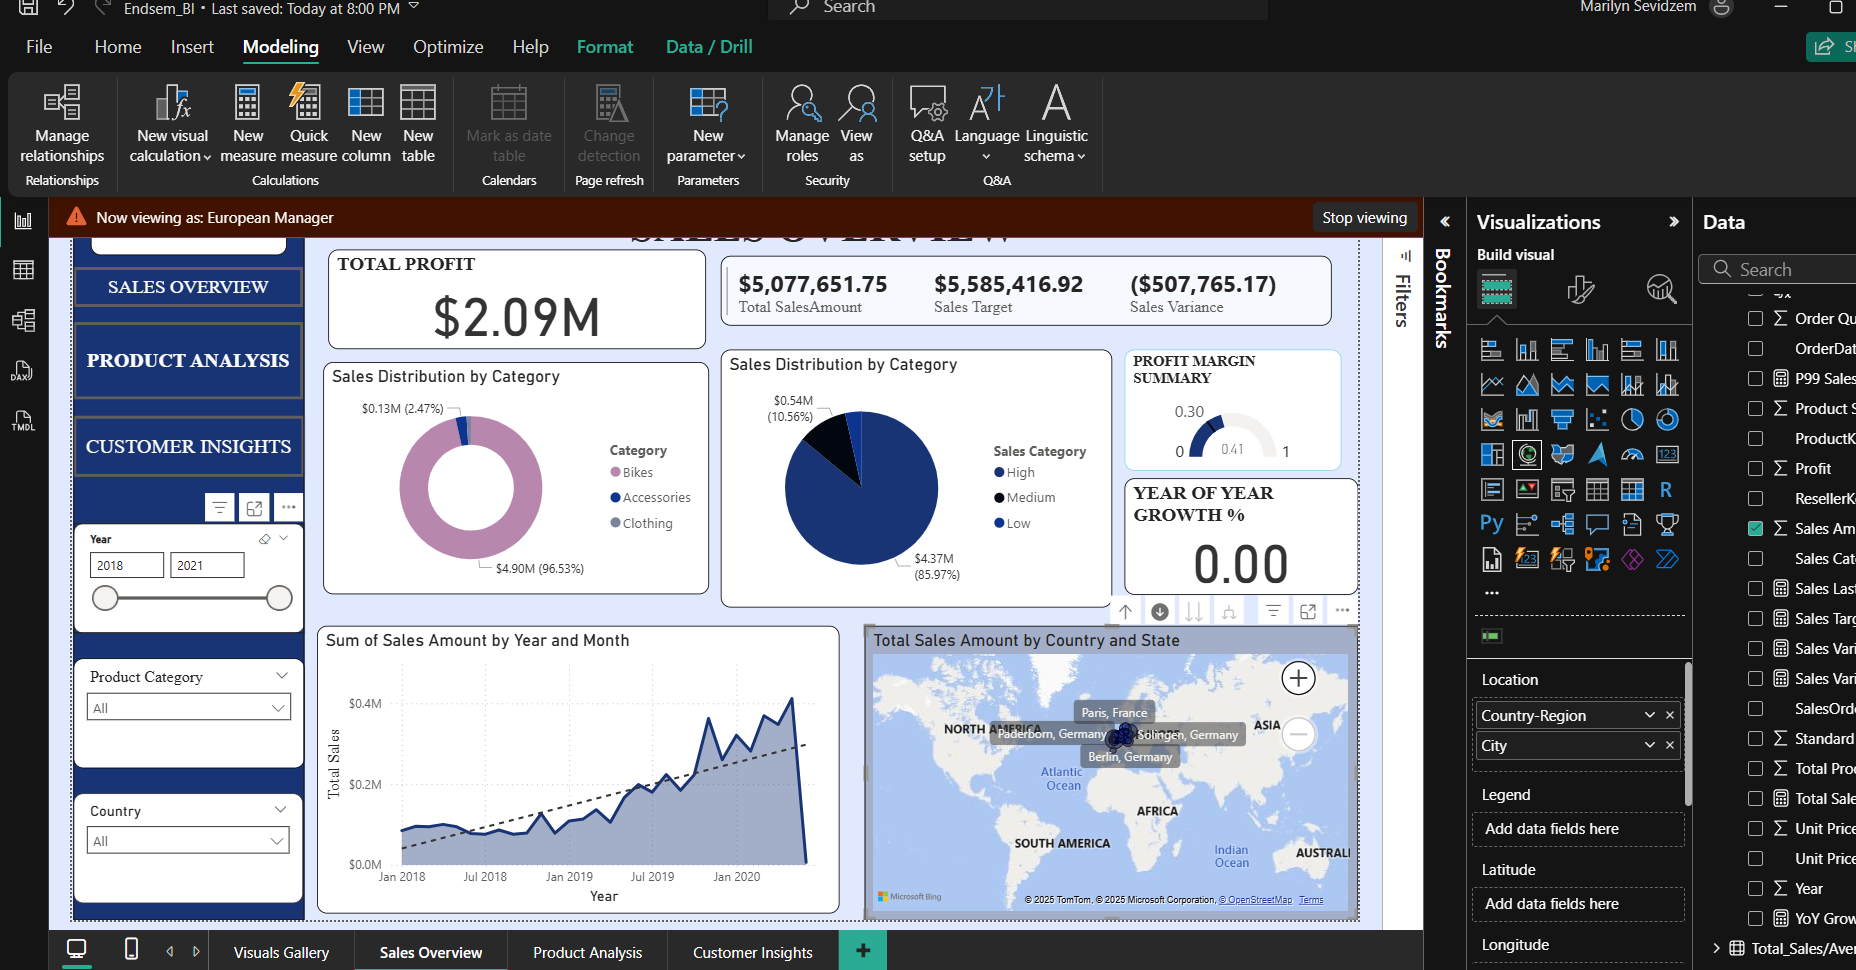

The page's visual inventory and layout, read from the dashboard file:
{"tool":"powerbi","page":{"name":"Sales Overview","canvas":[1280,720],"ordinal":1},"visuals":[{"type":"slicer","fields":{"Values":["Date.Date.Variation.Date Hierarchy.Year"]},"box":[0.9,324.8,230.5,109.8],"z":0,"group":"g2"},{"type":"areaChart","fields":{"Category":["Date.Date.Variation.Date Hierarchy.Year","Date.Date.Variation.Date Hierarchy.Month"],"Y":["Sum(Sales.Sales Amount)"]},"box":[243.8,426.7,520,286.1],"z":0},{"type":"map","title":"Total Sales Amount by Country and State","fields":{"Category":["Geography.Country-Region","Geography.City"],"Size":["Sum(Sales.Sales Amount)"]},"box":[788.7,426.7,491.4,293.6],"z":1000},{"type":"slicer","title":"Catrg","fields":{"Values":["Product.Category"]},"box":[0.9,459.3,230.5,109.8],"z":1000,"group":"g2"},{"type":"multiRowCard","fields":{"Values":["Sales.Total SalesAmount","Sales.Sales Target","Sales.Sales Variance"]},"box":[645.1,57.9,607.7,69.8],"z":2000},{"type":"slicer","fields":{"Values":["Geography.Country-Region"]},"box":[0.9,593.8,229.2,109.8],"z":2000,"group":"g2"},{"type":"shape","box":[1.4,0,230.1,720.3],"z":3000,"group":"g1"},{"type":"actionButton","box":[0.9,124.7,228.9,77.1],"z":3000,"group":"g2"},{"type":"pieChart","title":"Sales Distribution by Category","fields":{"Category":["Sales.Sales Category"],"Y":["Sum(Sales.Sales Amount)"]},"box":[645.1,151.5,389.8,257],"z":3000},{"type":"card","title":"TOTAL PROFIT","fields":{"Values":["Sum(Sales.Profit)"]},"box":[255,52.2,375.7,99.5],"z":4000},{"type":"actionButton","box":[0.9,218,230.1,61],"z":4000,"group":"g2"},{"type":"group","id":"g1","title":"Group 2","box":[0.9,0,230.6,720.3],"z":5000},{"type":"actionButton","box":[0.9,70,228.9,39.8],"z":5000,"group":"g2"},{"type":"textbox","box":[461.5,0,573.5,69.7],"z":6000},{"type":"group","id":"g2","title":"Group 1","box":[0.9,70,230.5,634],"z":6008,"group":"g1"},{"type":"textbox","box":[19.2,12.3,194.9,45.3],"z":7000},{"type":"gauge","title":"PROFIT MARGIN SUMMARY","fields":{"Y":["Customer.Profit Margin %"],"TargetValue":["Customer.Target Profit Margin"],"MaxValue":["Customer.Max Margin"],"MinValue":["Customer.Min Margin"]},"box":[1046.8,151.5,216.2,120.9],"z":8000},{"type":"donutChart","title":"Sales Distribution by Category","fields":{"Category":["Product.Category"],"Y":["Sum(Sales.Sales Amount)"]},"box":[250,164.2,384.4,231.4],"z":9001},{"type":"card","title":"YEAR OF YEAR GROWTH %","fields":{"Values":["Sales.YoY Growth %"]},"box":[1047.4,279.9,232.6,115.7],"z":9002}]}

Visuals, with their boxes on the page's 1280x720 design canvas (x1, y1, x2, y2). These are canvas units, not pixel positions in the 1856x970 screenshot, which may show the page scaled, cropped or inside an application window:
slicer - Date.Date.Variation.Date Hierarchy.Year: <region>1, 325, 231, 435</region>
areaChart - Date.Date.Variation.Date Hierarchy.Year x Date.Date.Variation.Date Hierarchy.Month: <region>244, 427, 764, 713</region>
"Total Sales Amount by Country and State" map: <region>789, 427, 1280, 720</region>
"Catrg" slicer: <region>1, 459, 231, 569</region>
multiRowCard - Sales.Total SalesAmount x Sales.Sales Target: <region>645, 58, 1253, 128</region>
slicer - Geography.Country-Region: <region>1, 594, 230, 704</region>
shape: <region>1, 0, 232, 720</region>
actionButton: <region>1, 125, 230, 202</region>
"Sales Distribution by Category" pieChart: <region>645, 152, 1035, 408</region>
"TOTAL PROFIT" card: <region>255, 52, 631, 152</region>
actionButton: <region>1, 218, 231, 279</region>
"Group 2" group: <region>1, 0, 232, 720</region>
actionButton: <region>1, 70, 230, 110</region>
textbox: <region>462, 0, 1035, 70</region>
"Group 1" group: <region>1, 70, 231, 704</region>
textbox: <region>19, 12, 214, 58</region>
"PROFIT MARGIN SUMMARY" gauge: <region>1047, 152, 1263, 272</region>
"Sales Distribution by Category" donutChart: <region>250, 164, 634, 396</region>
"YEAR OF YEAR GROWTH %" card: <region>1047, 280, 1280, 396</region>
